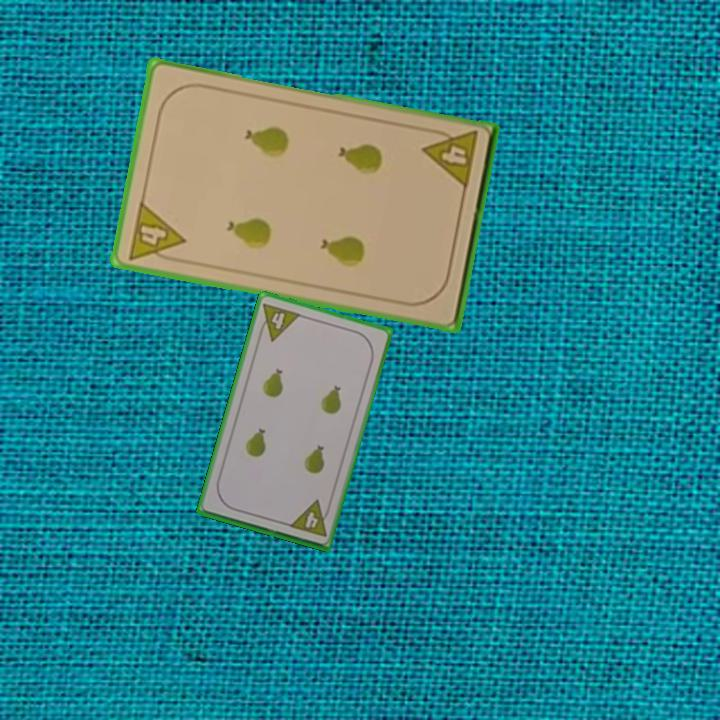4p: (125, 198, 188, 266), (419, 125, 481, 192), (254, 299, 303, 344), (285, 497, 333, 539)
